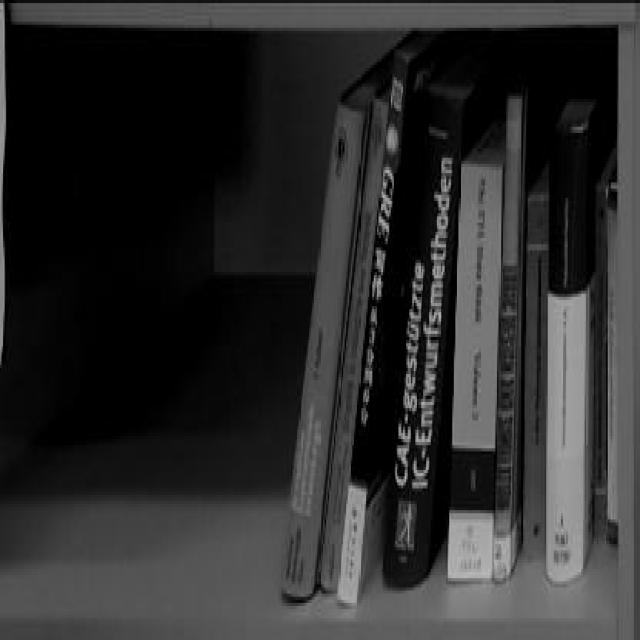book: (280, 106, 364, 599), (446, 159, 497, 581), (546, 122, 592, 578), (495, 86, 521, 578)
